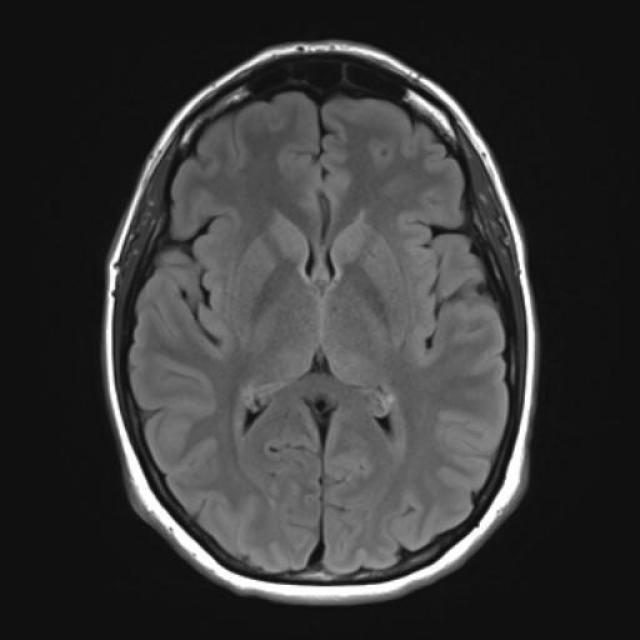notumor: (102, 40, 540, 610)
